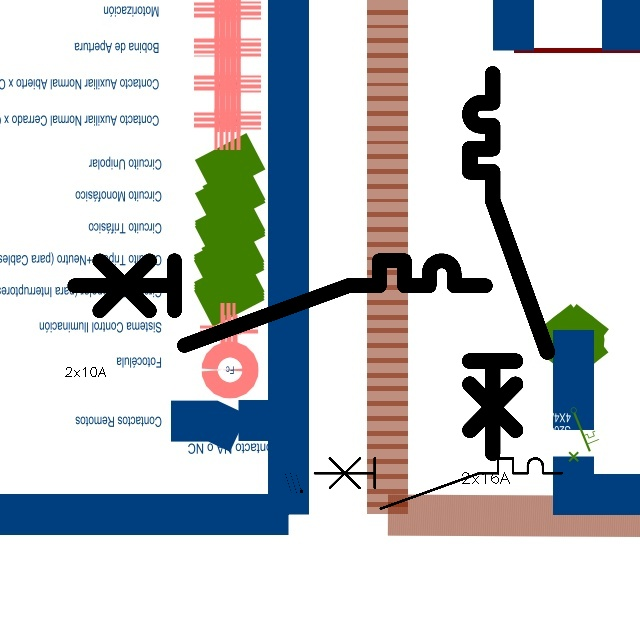interruptor_termomagnetico: (64, 250, 496, 356), (460, 64, 557, 463), (308, 452, 567, 515)
